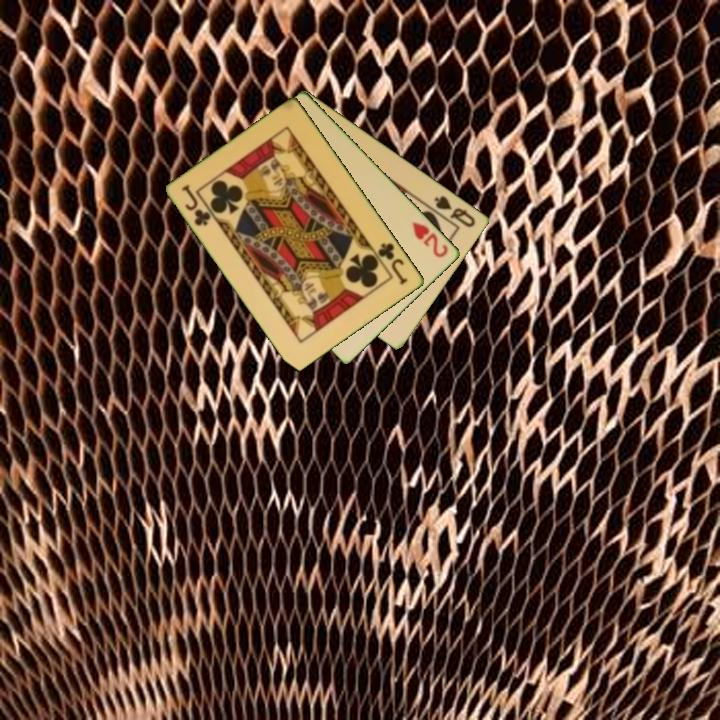2h: (409, 218, 451, 261)
Jc: (375, 239, 411, 288), (179, 181, 214, 229)
Qs: (431, 192, 479, 230)
